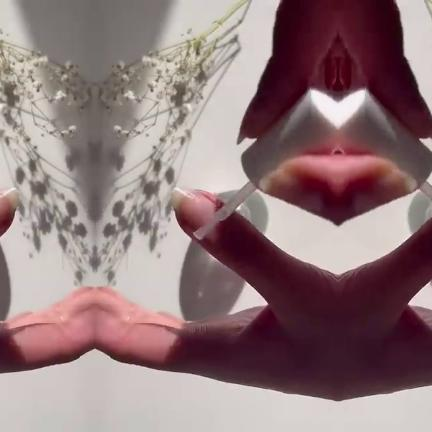Nail: (257, 170, 322, 214), (352, 170, 417, 214), (170, 186, 218, 231), (0, 186, 18, 225)
